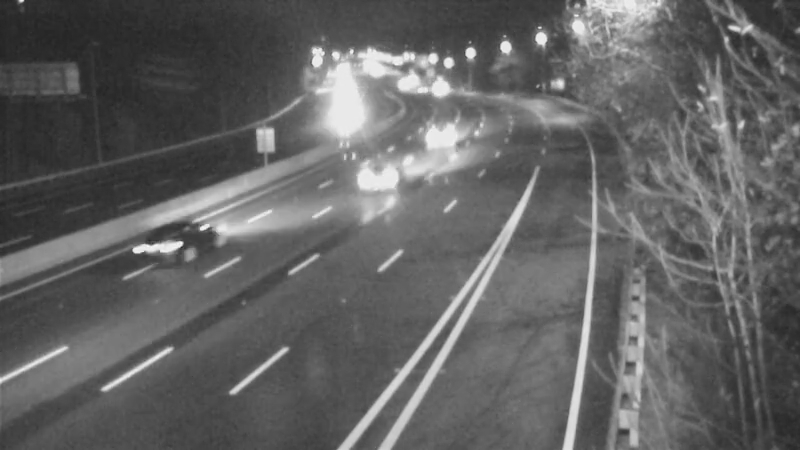vehicle: (348, 138, 428, 218), (122, 203, 202, 283), (412, 66, 462, 116), (413, 112, 463, 162)
